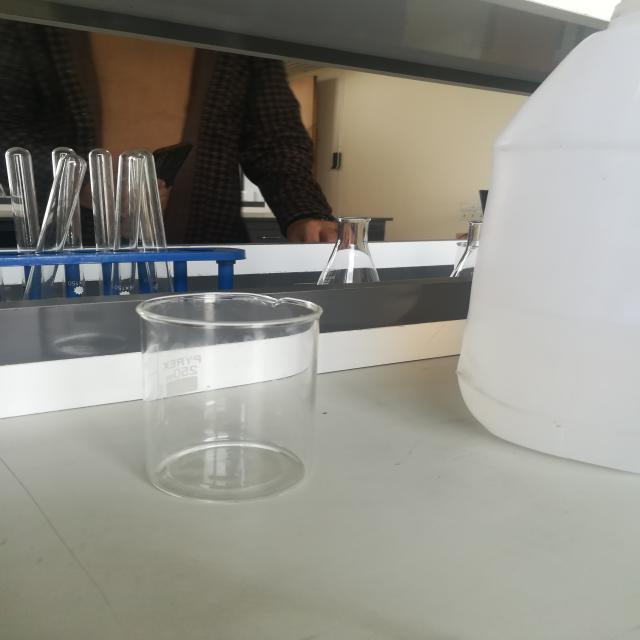Beaker: (119, 275, 342, 524)
Test_Tube: (0, 127, 175, 302)
